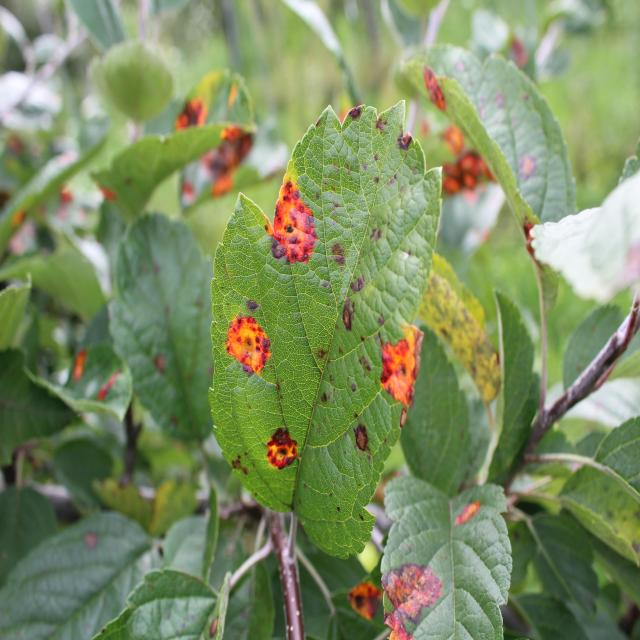Rust: (268, 160, 320, 278), (377, 310, 422, 434), (217, 304, 279, 382), (382, 556, 453, 623), (207, 105, 253, 204), (260, 415, 306, 474), (350, 565, 382, 628), (169, 93, 212, 132)
